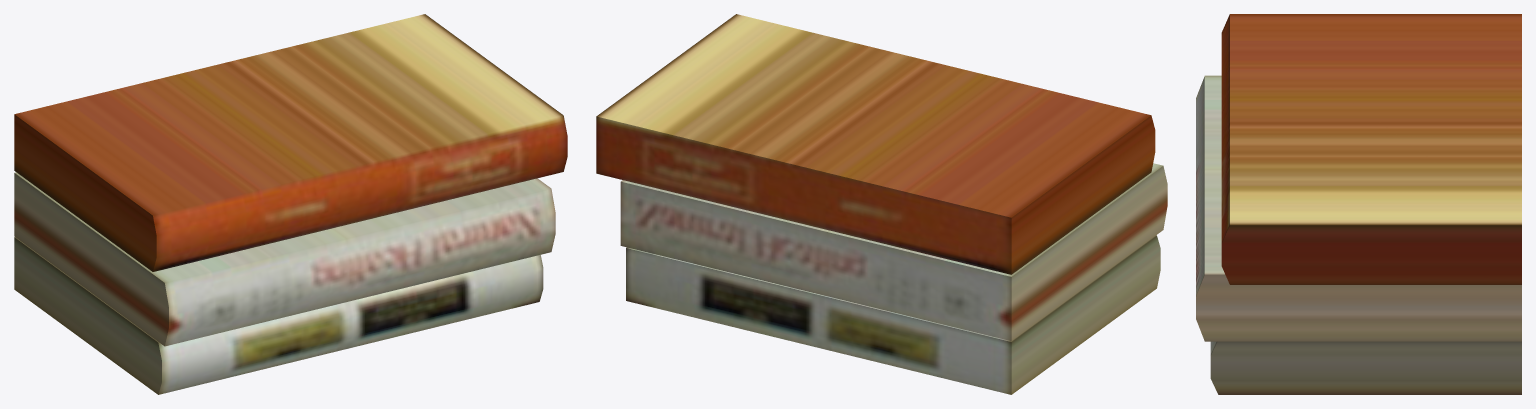
File: Books2.FBX
3 renders of one model, left to right at view 1: azimuth 30°, elevation 25°; view 2: azimuth 150°, elevation 25°; view 3: azimuth 270°, elevation 25°, orthographic. The views are drawn at different scales.
Visible parts, largest first — view 1: Books2; view 2: Books2; view 3: Books2.
Part boxes in pixels (x1,y1,x2,y2): Books2: (14,14,567,394); Books2: (596,14,1167,394); Books2: (1196,14,1521,394).
Bounding box in the file's own units: 682 × 445 × 278.
1 material, 1 textured.
